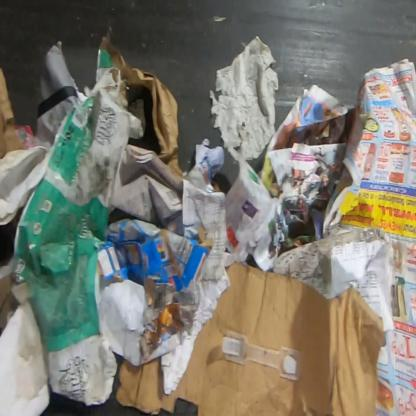cardboard: (112, 262, 386, 415), (95, 215, 214, 369), (100, 34, 183, 177), (0, 68, 27, 160)
